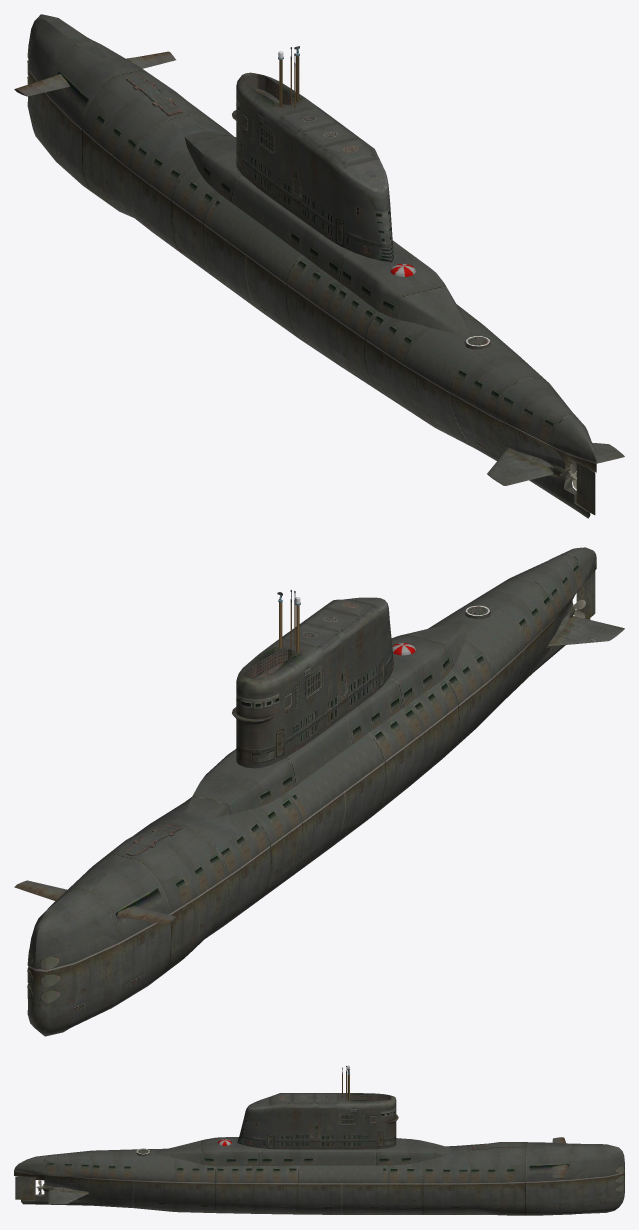
File: chassis.glb
3 views of the same model, one above another, from view 1: azimuth 30°, elevation 25°; view 2: azimuth 150°, elevation 25°; view 3: azimuth 270°, elevation 25° (orthographic). The views are drawn at different scales.
Visible parts, largest first — view 1: Material1; view 2: Material1; view 3: Material1.
Part boxes in pixels (box(x1,y1,x2,y2)): Material1: box(14, 14, 624, 518); Material1: box(14, 547, 624, 1036); Material1: box(14, 1065, 624, 1215).
Size of the model in its own units: 5.98 by 9.99 by 37.61.
Materials: 1 (1 with a texture image).
